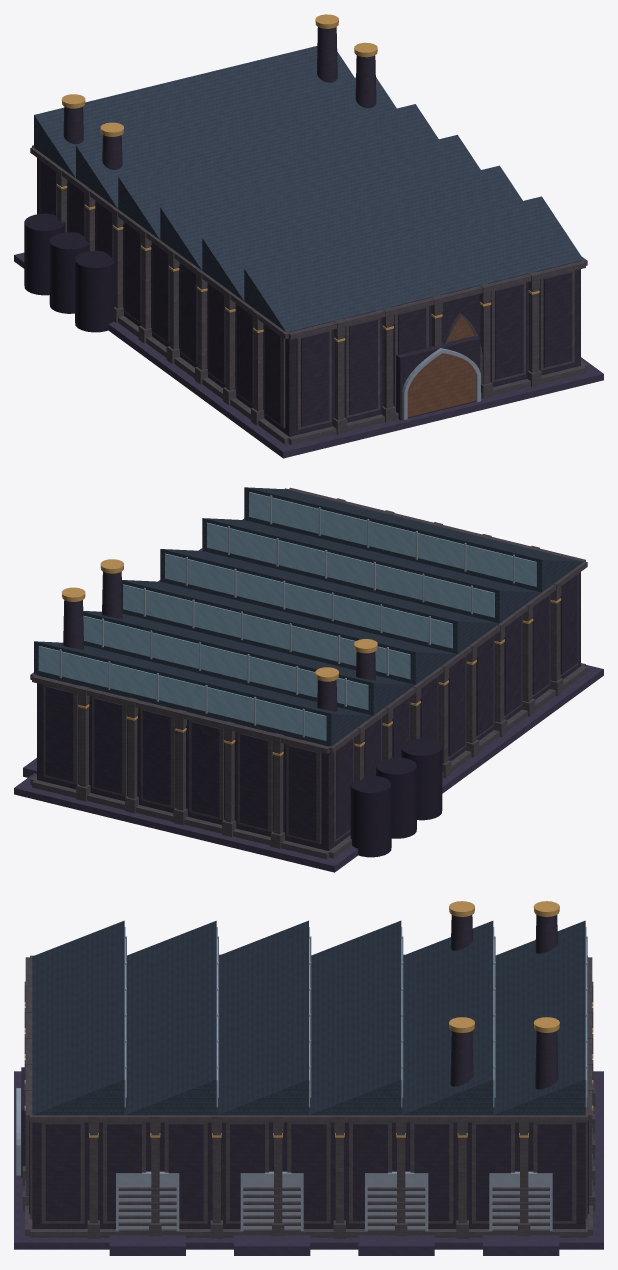
The model's file is inkling-hatchery-vats.glb.
The picture shows the model from 3 angles, top to bottom: view 1: azimuth 30°, elevation 25°; view 2: azimuth 150°, elevation 25°; view 3: azimuth 270°, elevation 25°; orthographic projection. The views are drawn at different scales.
Bounding box in the file's own units: 24.2 × 12.52 × 32.
Materials: 9 (9 with a texture image).
